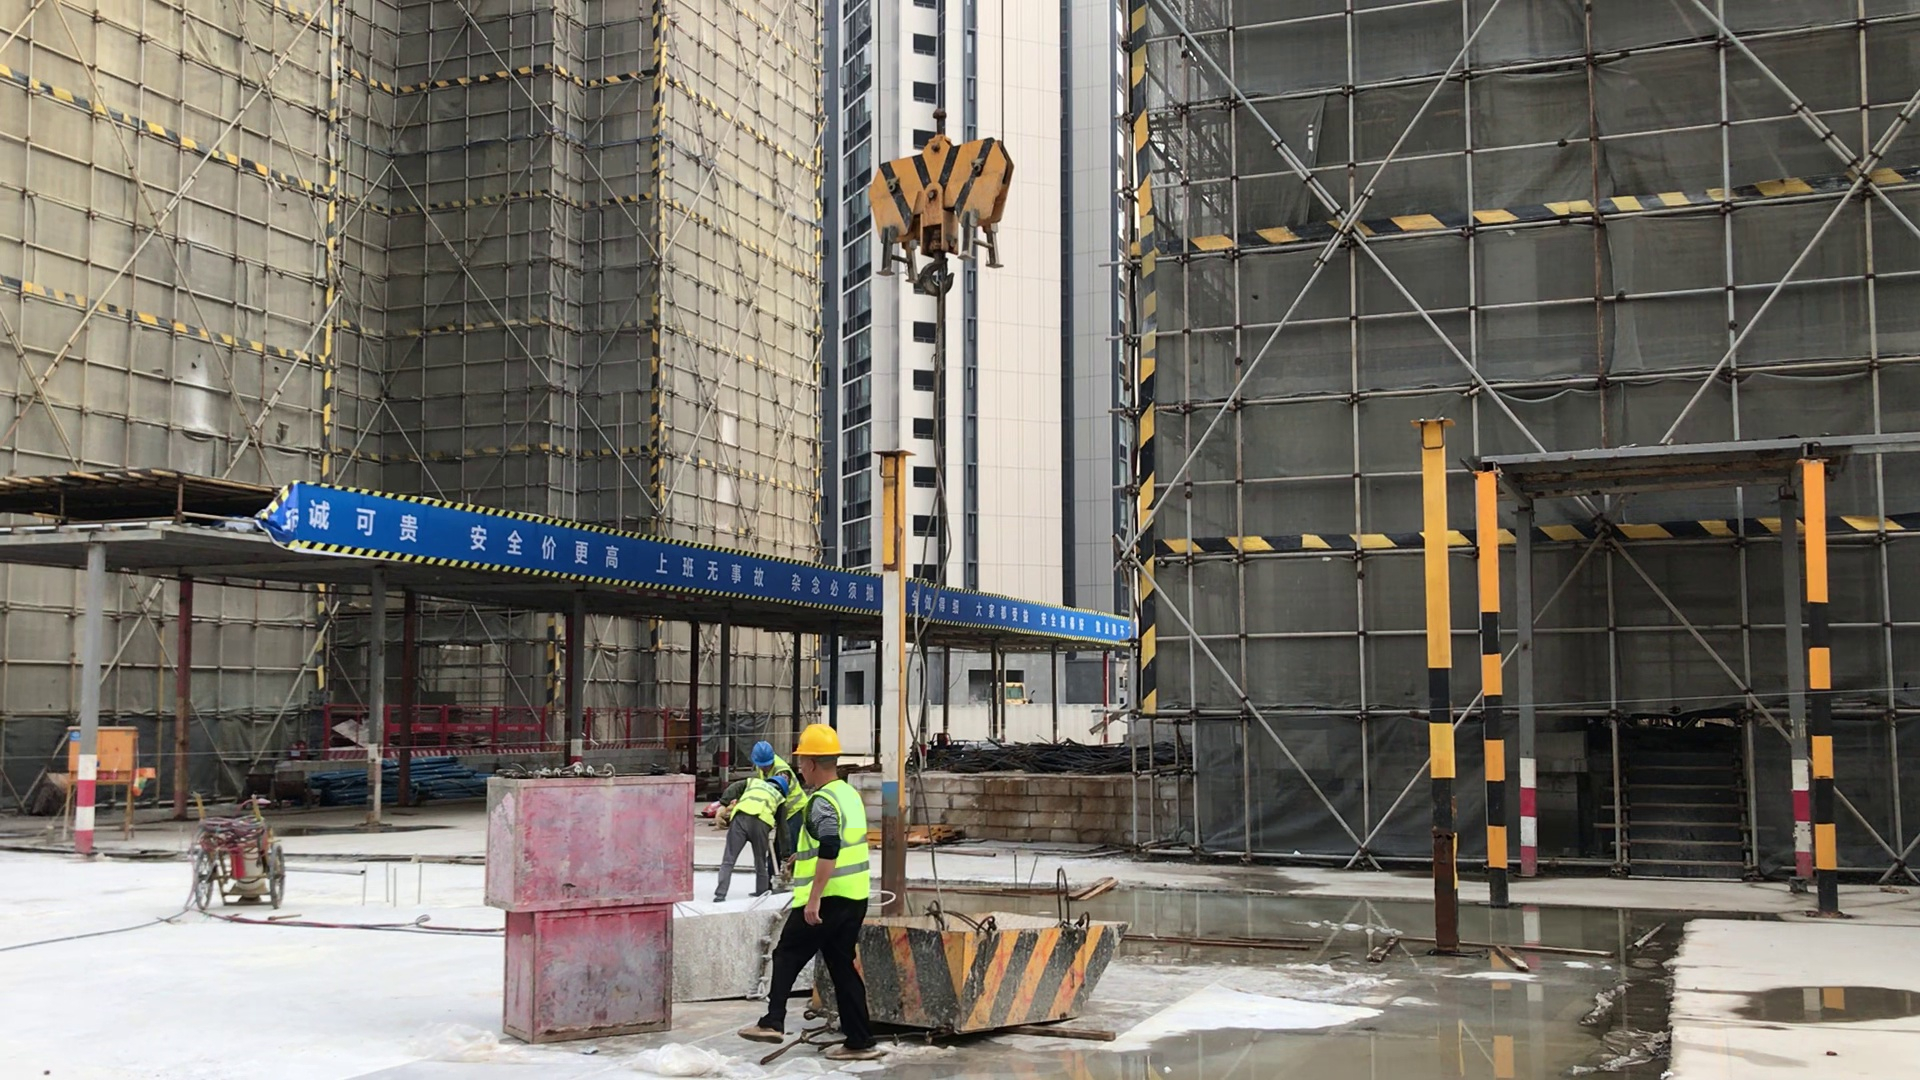ebox: (60, 711, 145, 801)
fence: (312, 686, 732, 769)
handcart: (188, 791, 295, 926)
helmet: (799, 720, 843, 760), (754, 742, 785, 771)
hook: (866, 113, 1014, 294)
hopper: (814, 908, 1126, 1043), (664, 897, 811, 1000)
person: (741, 720, 878, 1063), (737, 727, 796, 913), (719, 753, 788, 905)
slogan: (262, 469, 1144, 657)
vest: (738, 779, 873, 908)
